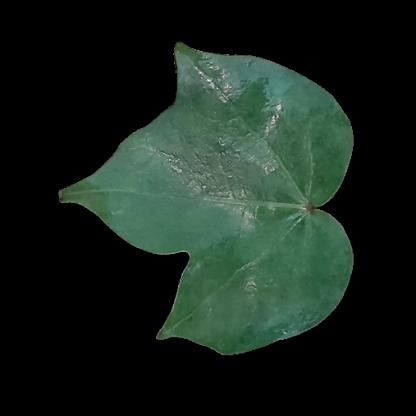healthy: (152, 123, 313, 239), (194, 239, 300, 335), (187, 65, 295, 122), (104, 157, 149, 220)
